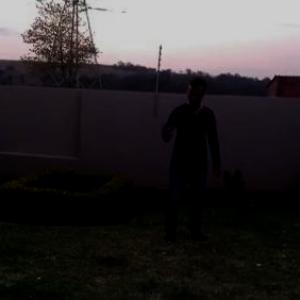takeoff-hand: (157, 115, 180, 144)
